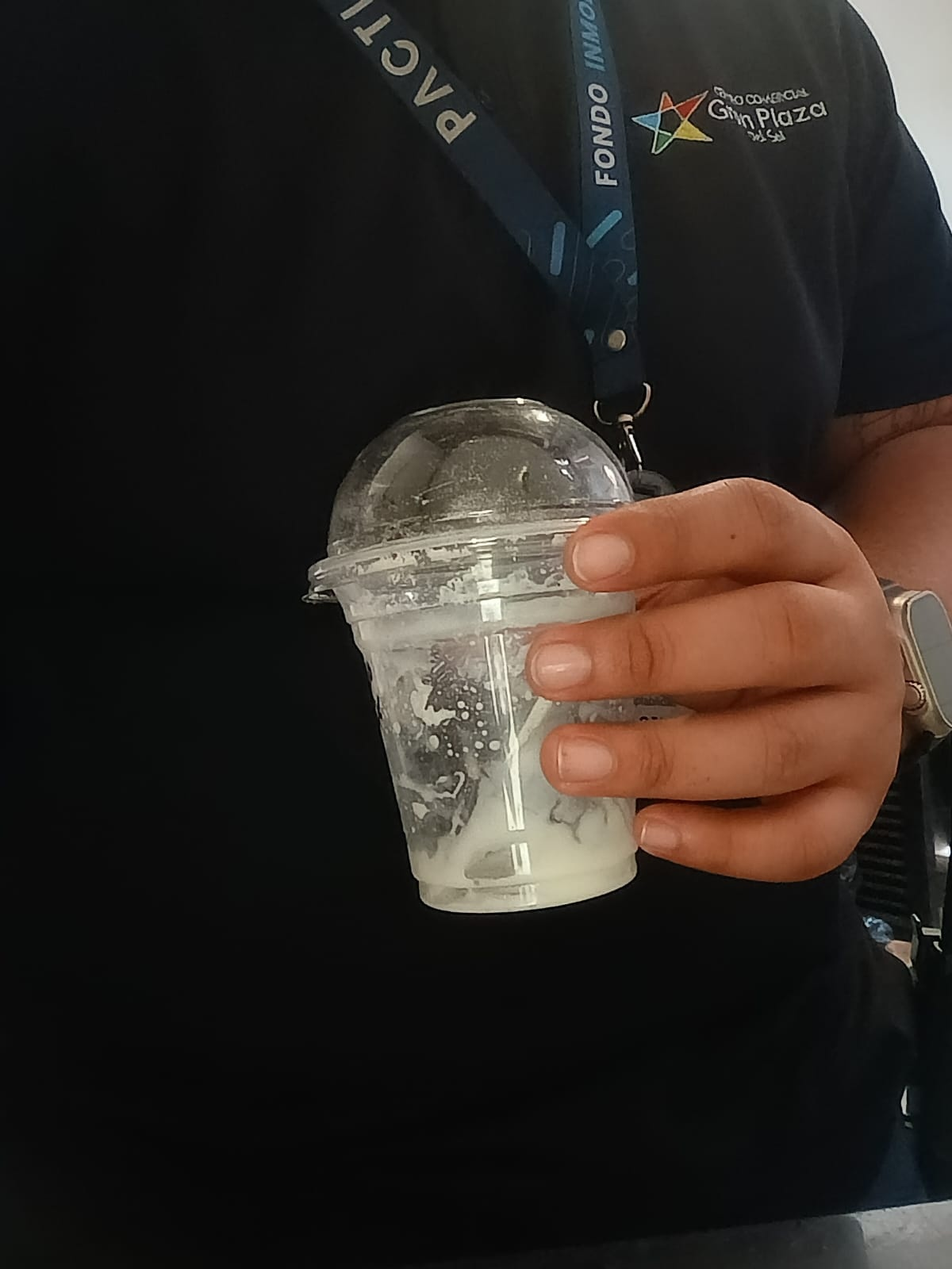Plastico: (304, 398, 657, 917)
